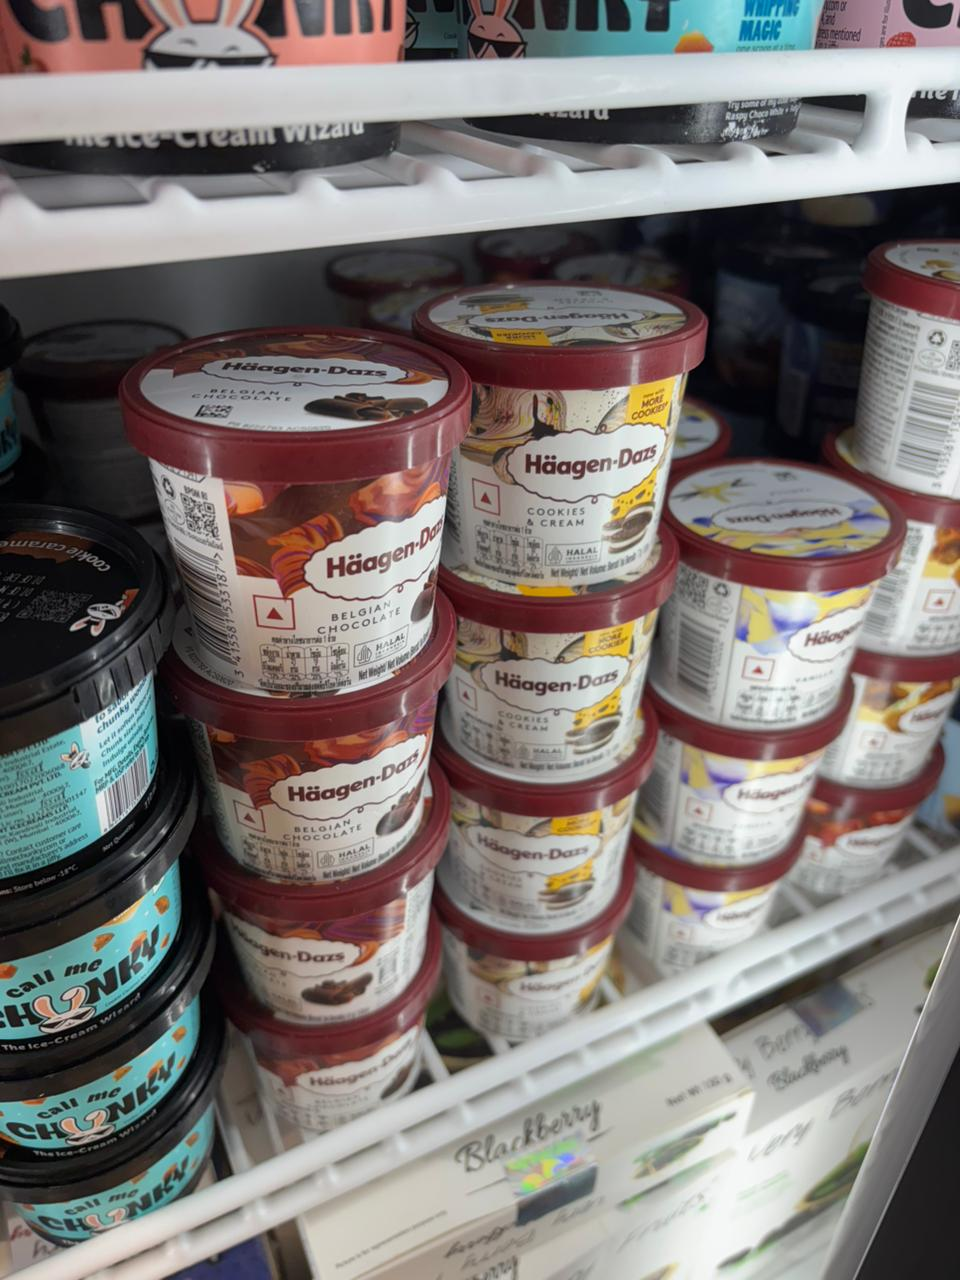Haagen-Dazs IceCream Tub: (115, 324, 454, 690), (424, 275, 709, 591), (186, 638, 448, 891), (649, 459, 894, 720), (431, 541, 684, 782), (224, 804, 437, 1043), (626, 666, 855, 866), (438, 716, 640, 931), (845, 234, 960, 510), (833, 430, 957, 664)
